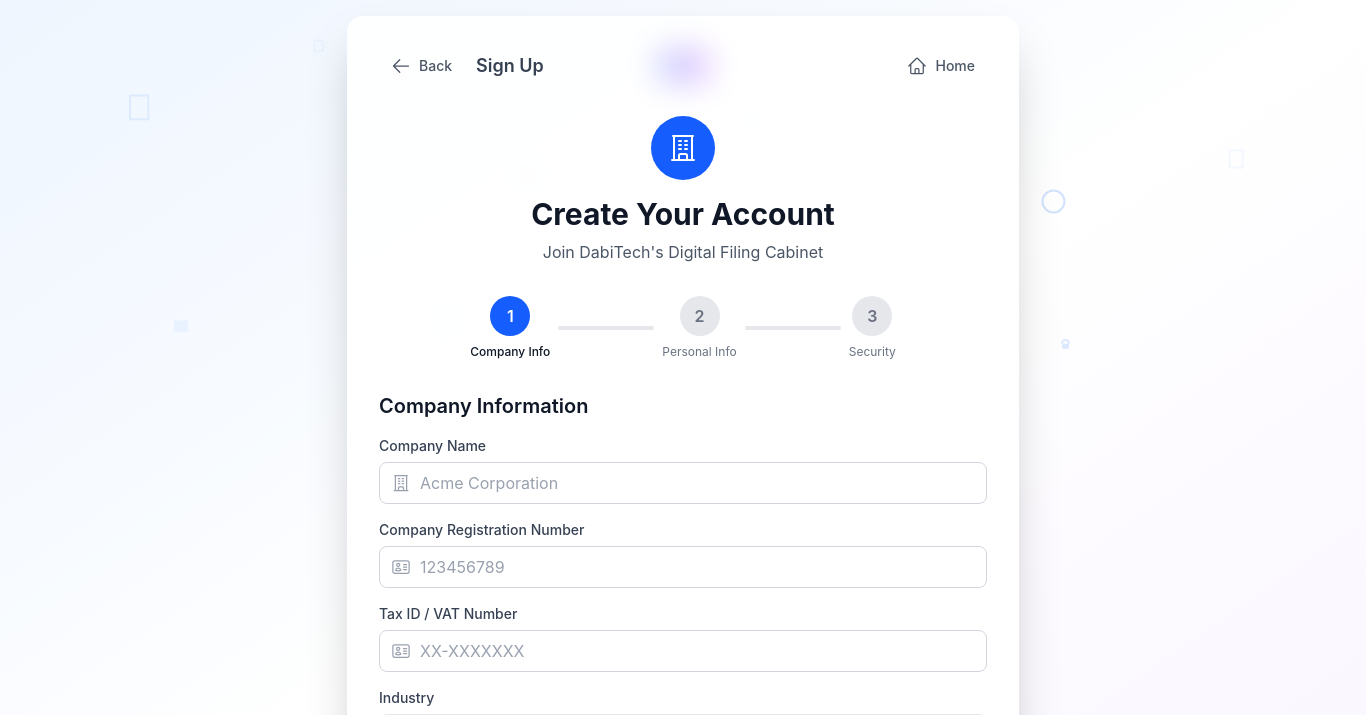
Test: SignUp Component › Step 1: Company Information › should show validation error for empty company name
Click the field labelled "Company Name": (683, 483) [379,462,987,504]
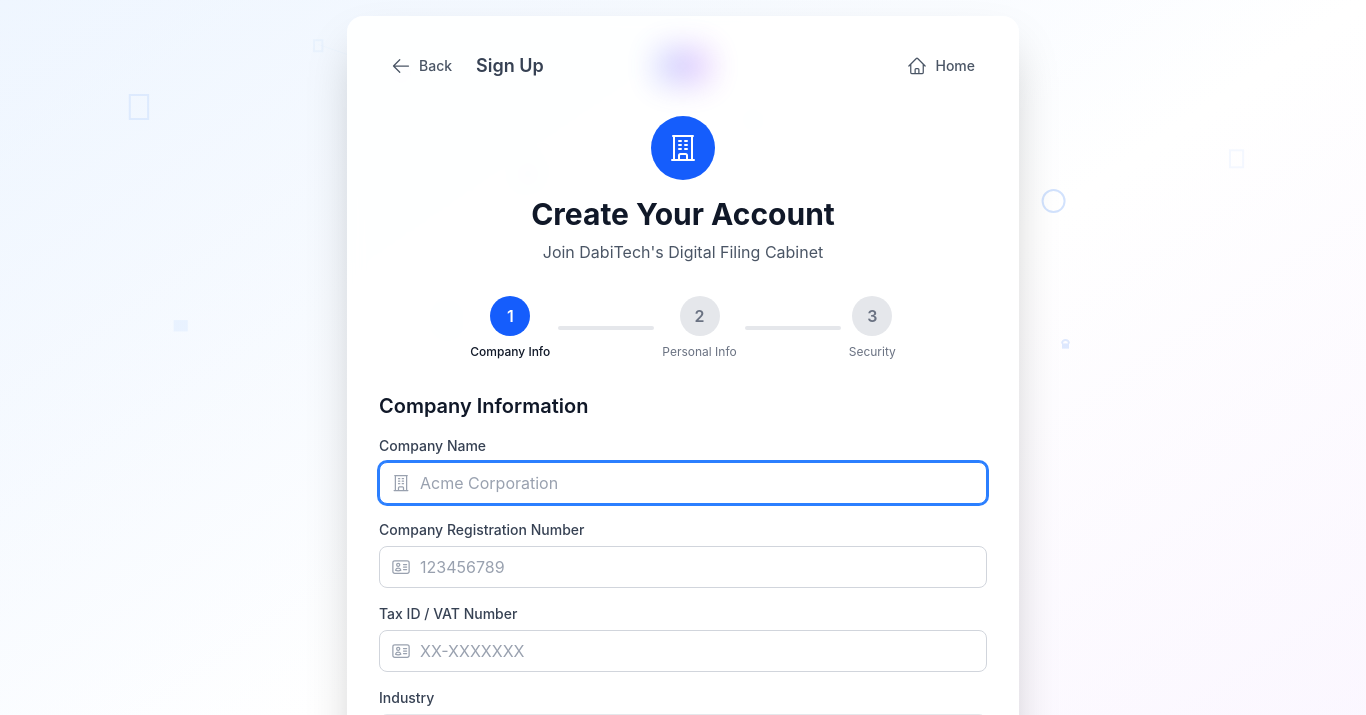
Press Tab
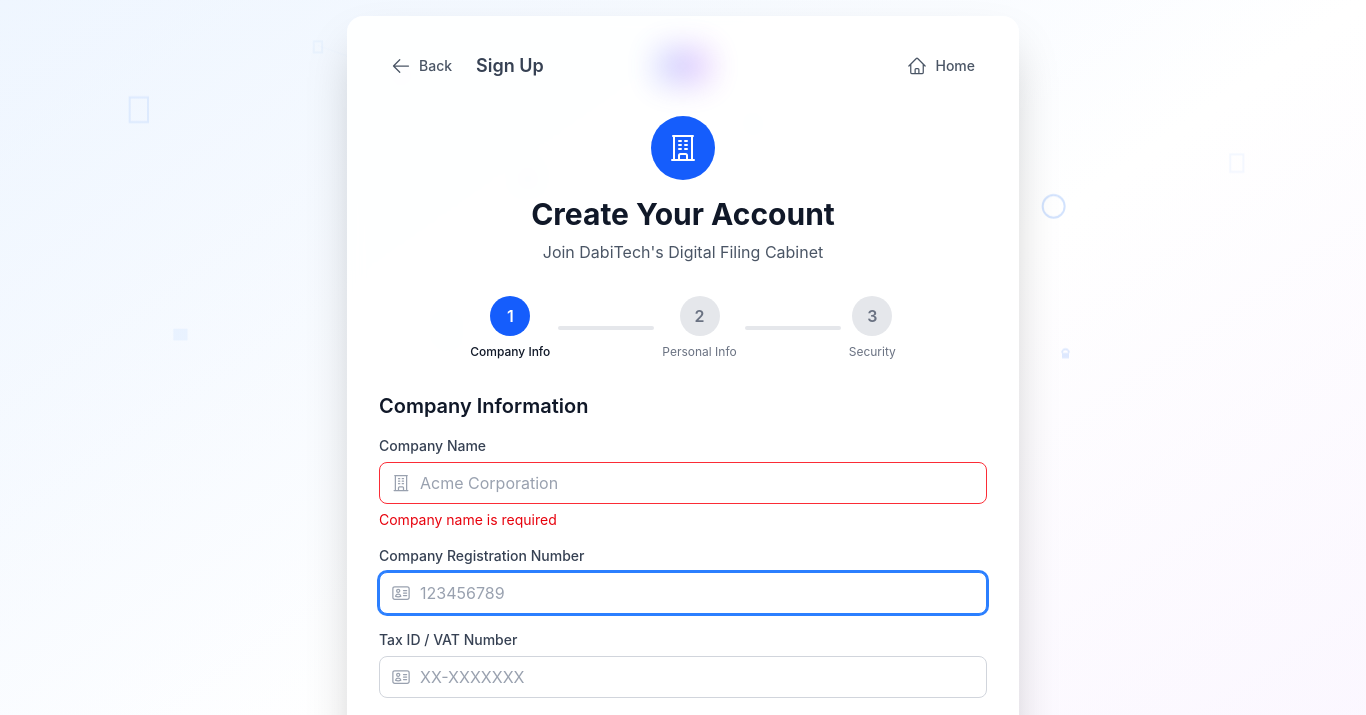
Expected: the text "Company name is required" is shown, [379,511,557,528]
